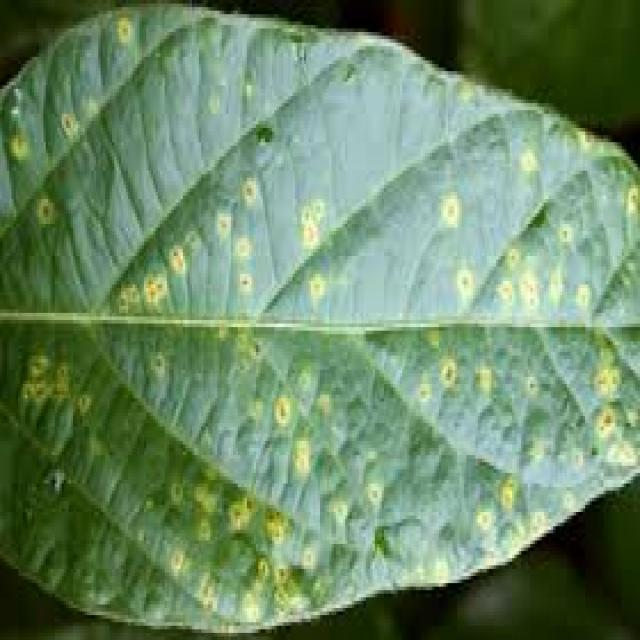bercak_daun: (149, 326, 560, 588)
